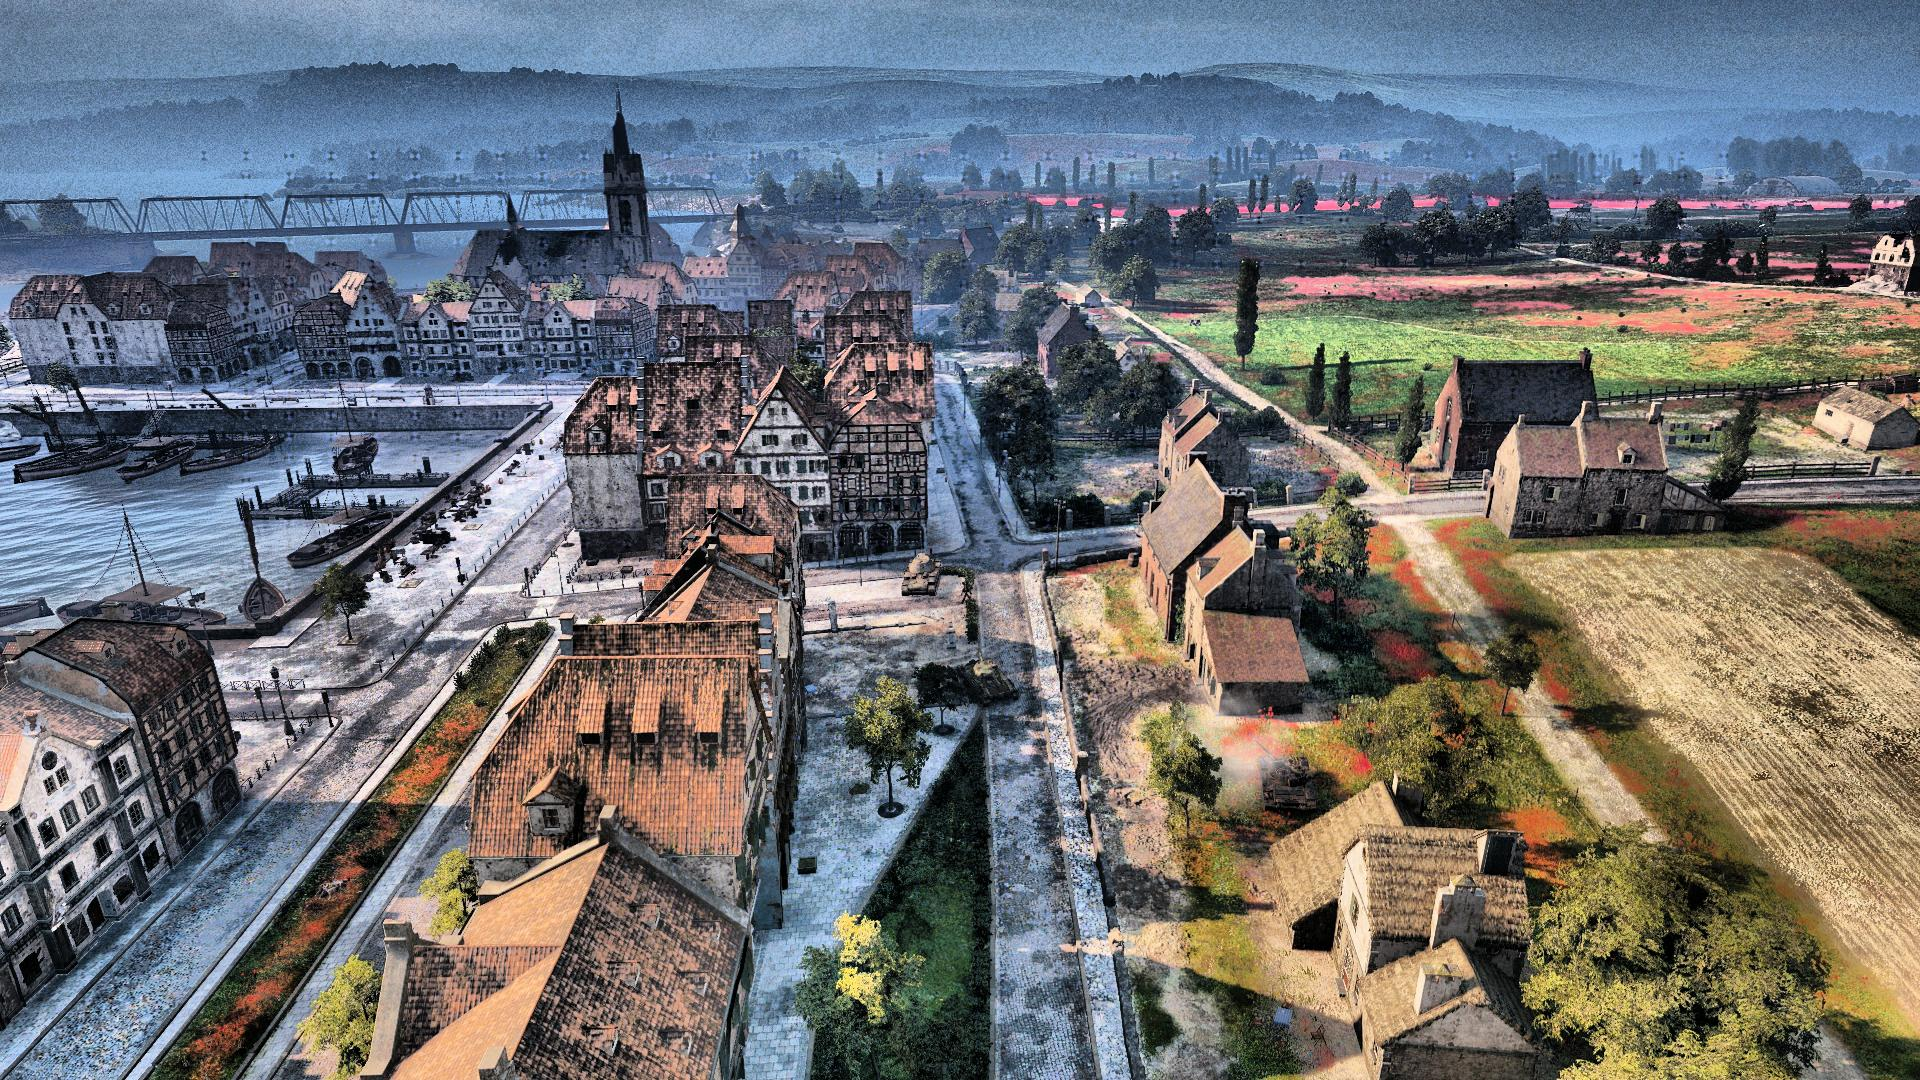military-vehicle: (956, 647, 1019, 708), (898, 550, 943, 597)
